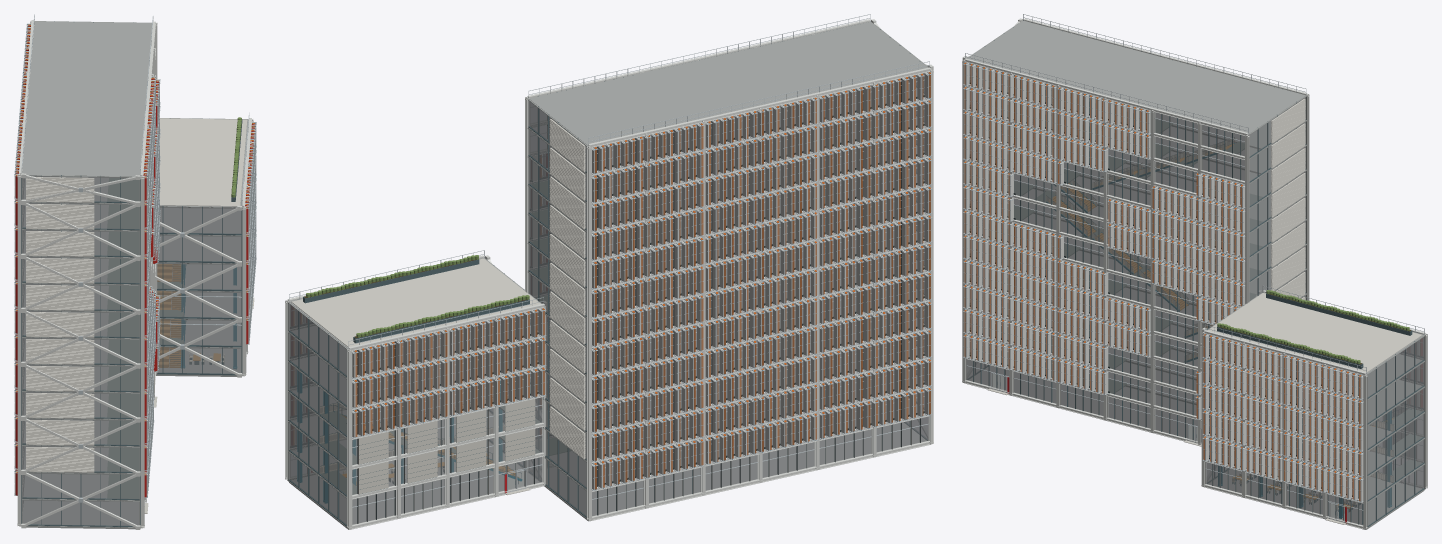
The model's file is cbg-exterior-6baa0c0adbca.glb.
The picture shows the model from 3 angles, left to right: view 1: azimuth 30°, elevation 25°; view 2: azimuth 150°, elevation 25°; view 3: azimuth 270°, elevation 25°; orthographic projection. The views are drawn at different scales.
Visible parts, largest first — view 1: CBG.001; view 2: CBG.001; view 3: CBG.001.
Boxes of the visible parts, bbox=[...] form: CBG.001: bbox=[14, 14, 256, 529]; CBG.001: bbox=[285, 14, 933, 529]; CBG.001: bbox=[962, 14, 1427, 529].
Bounding box in the file's own units: 66.1 × 53.56 × 68.49.
